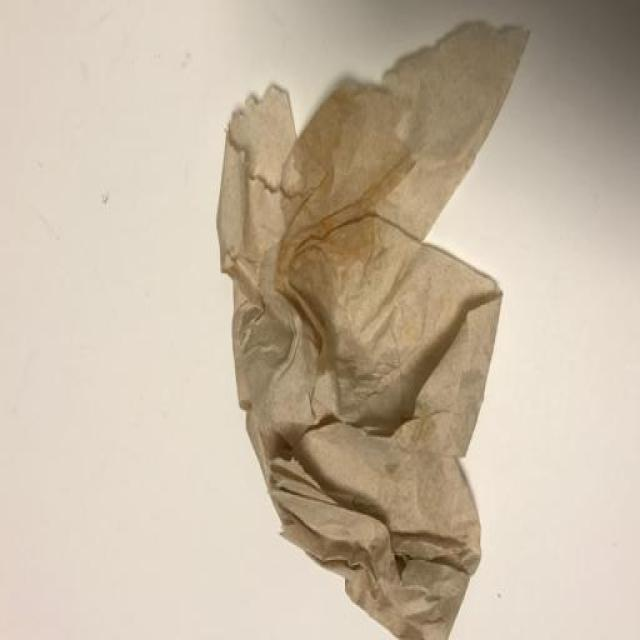Random Trash: (216, 20, 531, 640)
